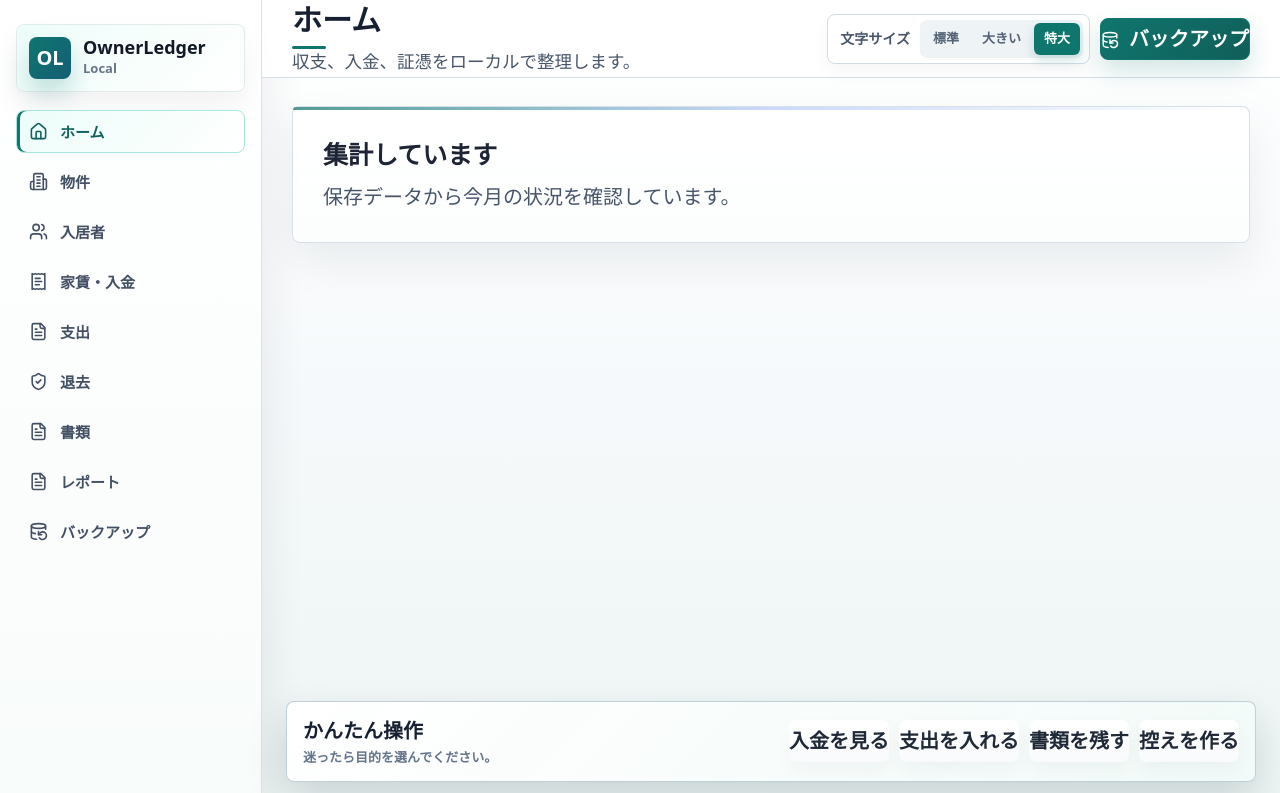
Scenario: beginner-friendly UI › かんたん操作から目的の画面へ移動できる
Click the button "支出を入れる": point(959, 741) [899,720,1019,762]
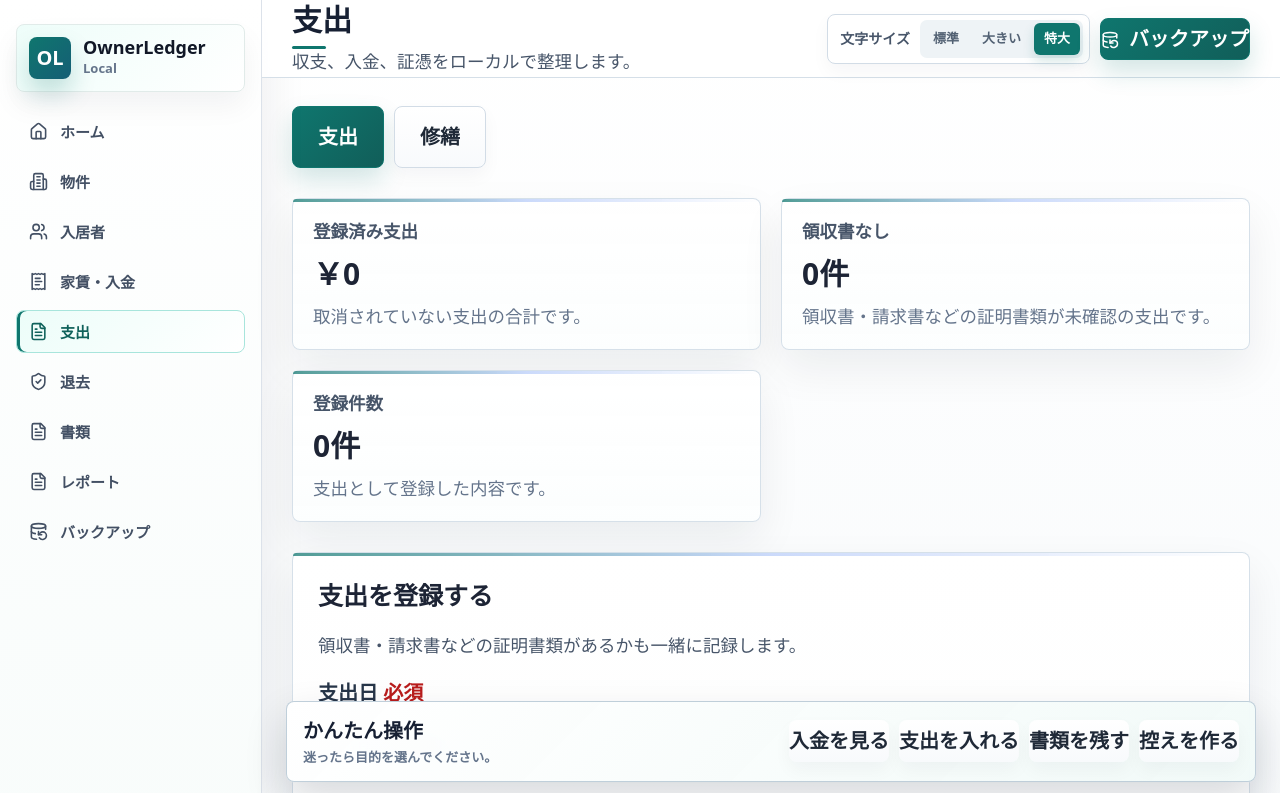
Result: the heading "支出を登録する" is shown at [318,578,493,612]
